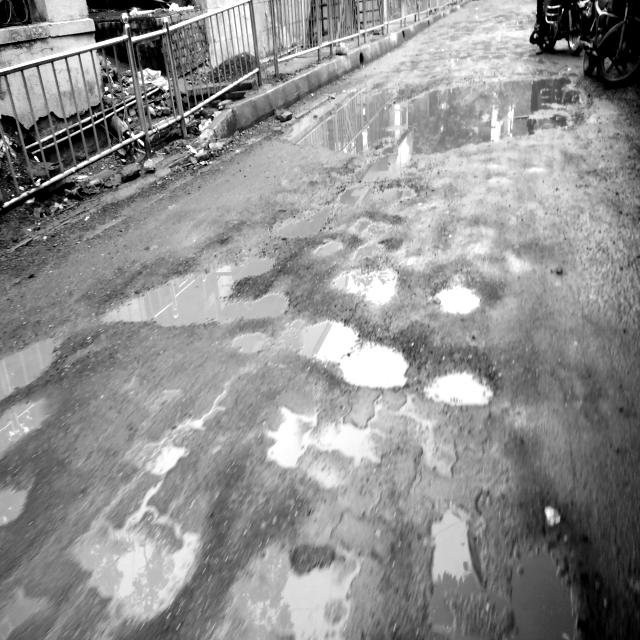pathole: (0, 42, 640, 638)
